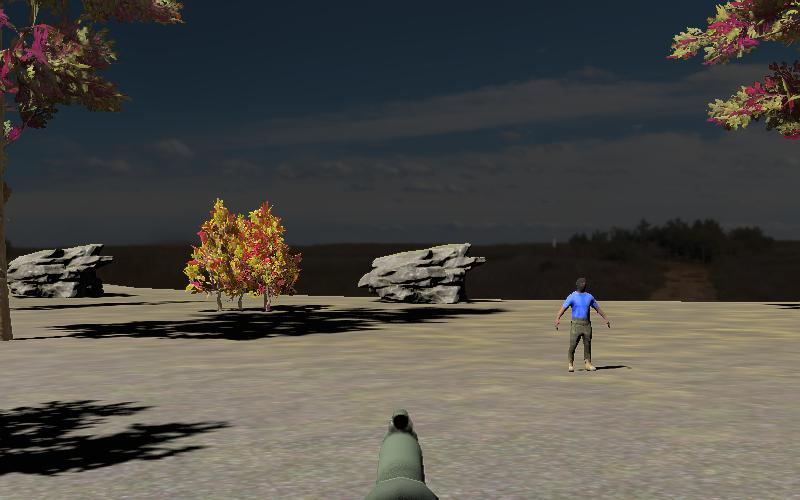Human: (555, 276, 609, 374)
